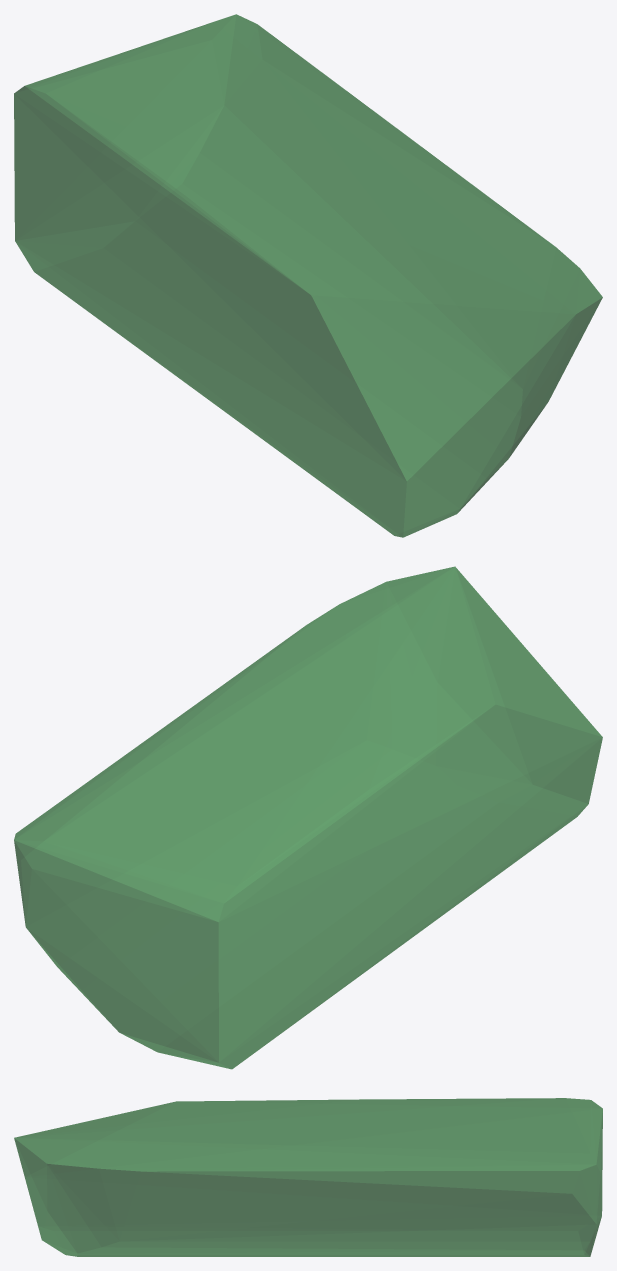
3 views of the same model, one above another, from view 1: azimuth 30°, elevation 25°; view 2: azimuth 150°, elevation 25°; view 3: azimuth 270°, elevation 25° (orthographic). The views are drawn at different scales.
Parts seen in each view (by area): view 1: Shape_IndexedFaceSet.003_Shape_IndexedFaceSet.17979; view 2: Shape_IndexedFaceSet.003_Shape_IndexedFaceSet.17979; view 3: Shape_IndexedFaceSet.003_Shape_IndexedFaceSet.17979.
Part boxes in pixels (box(x1,y1,x2,y2)): Shape_IndexedFaceSet.003_Shape_IndexedFaceSet.17979: box(14, 14, 602, 537); Shape_IndexedFaceSet.003_Shape_IndexedFaceSet.17979: box(14, 566, 602, 1069); Shape_IndexedFaceSet.003_Shape_IndexedFaceSet.17979: box(14, 1098, 602, 1256).
Bounding box in the file's own units: 0.2452 × 0.206 × 0.7416.
